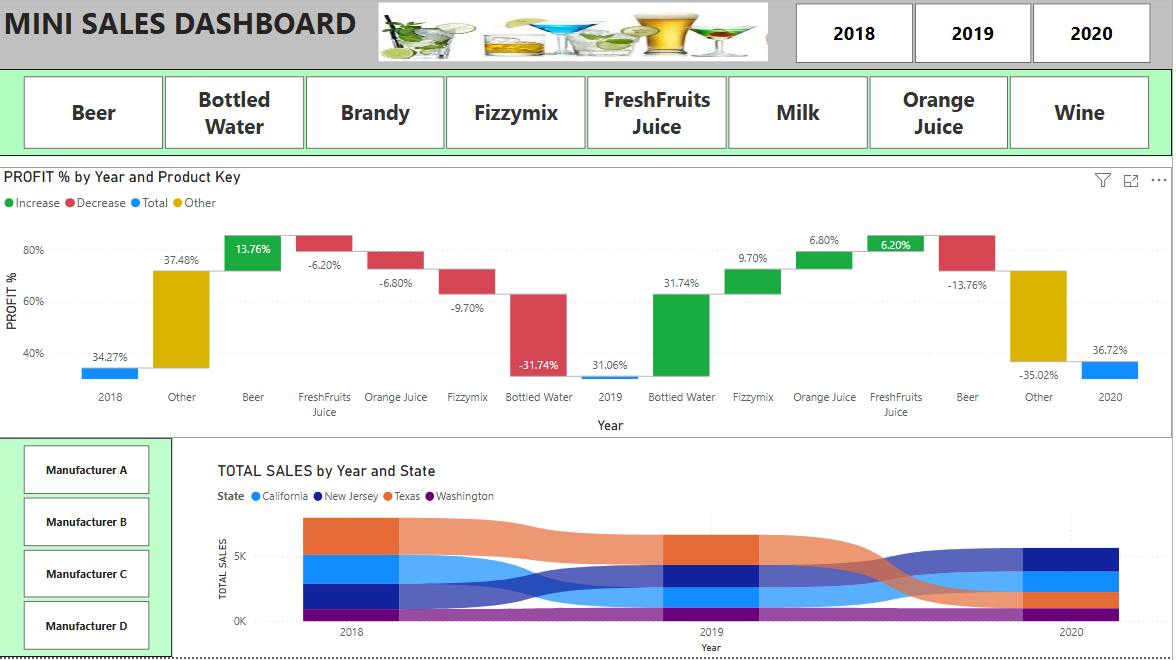

Layout of this report page (visuals, bound fields, positions):
{"tool":"powerbi","page":{"name":"mini 2","canvas":[1280,720],"ordinal":1},"visuals":[{"type":"textbox","box":[0,0,1280,78.6],"z":0},{"type":"slicer","fields":{"Values":["Sales.Date.Variation.Date Hierarchy.Year"]},"box":[843.5,0,436.5,78.6],"z":1},{"type":"slicer","fields":{"Values":["Product.Product Key"]},"box":[0,78.6,1280,94.9],"z":2},{"type":"slicer","fields":{"Values":["Product.Manufacturer"]},"box":[0,481.2,188.8,239],"z":3},{"type":"waterfallChart","fields":{"Y":["Sales.PROFIT %"],"Category":["Sales.Date.Variation.Date Hierarchy.Year"],"Breakdown":["Product.Product Key"]},"box":[0,185.5,1280,295.7],"z":4},{"type":"ribbonChart","fields":{"Y":["Sales.TOTAL SALES"],"Category":["Sales.Date.Variation.Date Hierarchy.Year"],"Series":["Sales Rep.State"]},"box":[233.5,506.3,1046.5,213.9],"z":5},{"type":"image","box":[409,1.3,434.8,73.5],"z":6}]}

Visuals, with their boxes in screenshot pixels (x1, y1, x2, y2), scaled from the page's 1280x720 canvas onto the 1176x660 screenshot:
textbox: (left=0, top=0, right=1175, bottom=72)
slicer - Sales.Date.Variation.Date Hierarchy.Year: (left=775, top=0, right=1175, bottom=72)
slicer - Product.Product Key: (left=0, top=72, right=1175, bottom=159)
slicer - Product.Manufacturer: (left=0, top=441, right=173, bottom=659)
waterfallChart - Sales.PROFIT % x Sales.Date.Variation.Date Hierarchy.Year: (left=0, top=170, right=1175, bottom=441)
ribbonChart - Sales.TOTAL SALES x Sales.Date.Variation.Date Hierarchy.Year: (left=215, top=464, right=1175, bottom=659)
image: (left=376, top=1, right=775, bottom=69)
